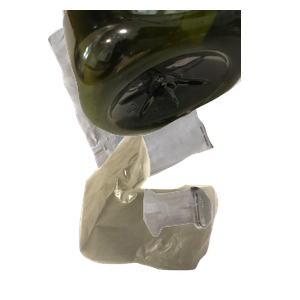glass: (141, 184, 300, 300)
paper: (45, 10, 251, 190)
plastic: (60, 10, 300, 139)
trash: (76, 124, 287, 300)
